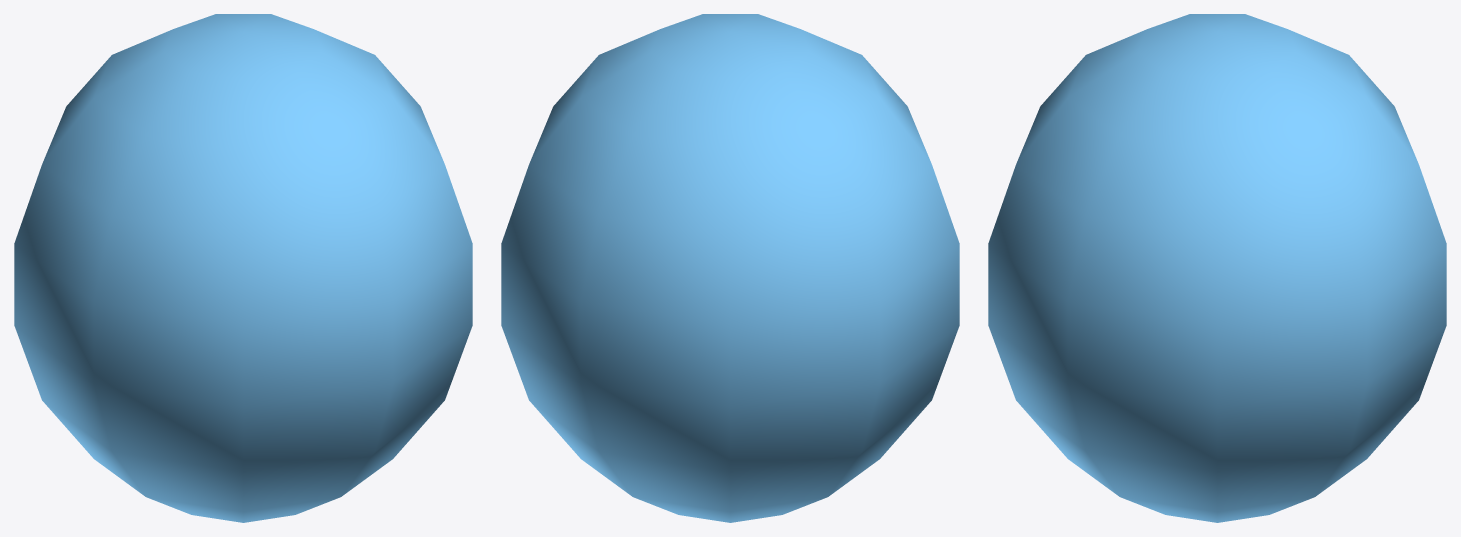
The model's file is frostling_stage1.obj.
The picture shows the model from 3 angles, left to right: view 1: azimuth 30°, elevation 25°; view 2: azimuth 150°, elevation 25°; view 3: azimuth 270°, elevation 25°; orthographic projection.
Bounding box in the file's own units: 1.24 × 1.43 × 1.26.
